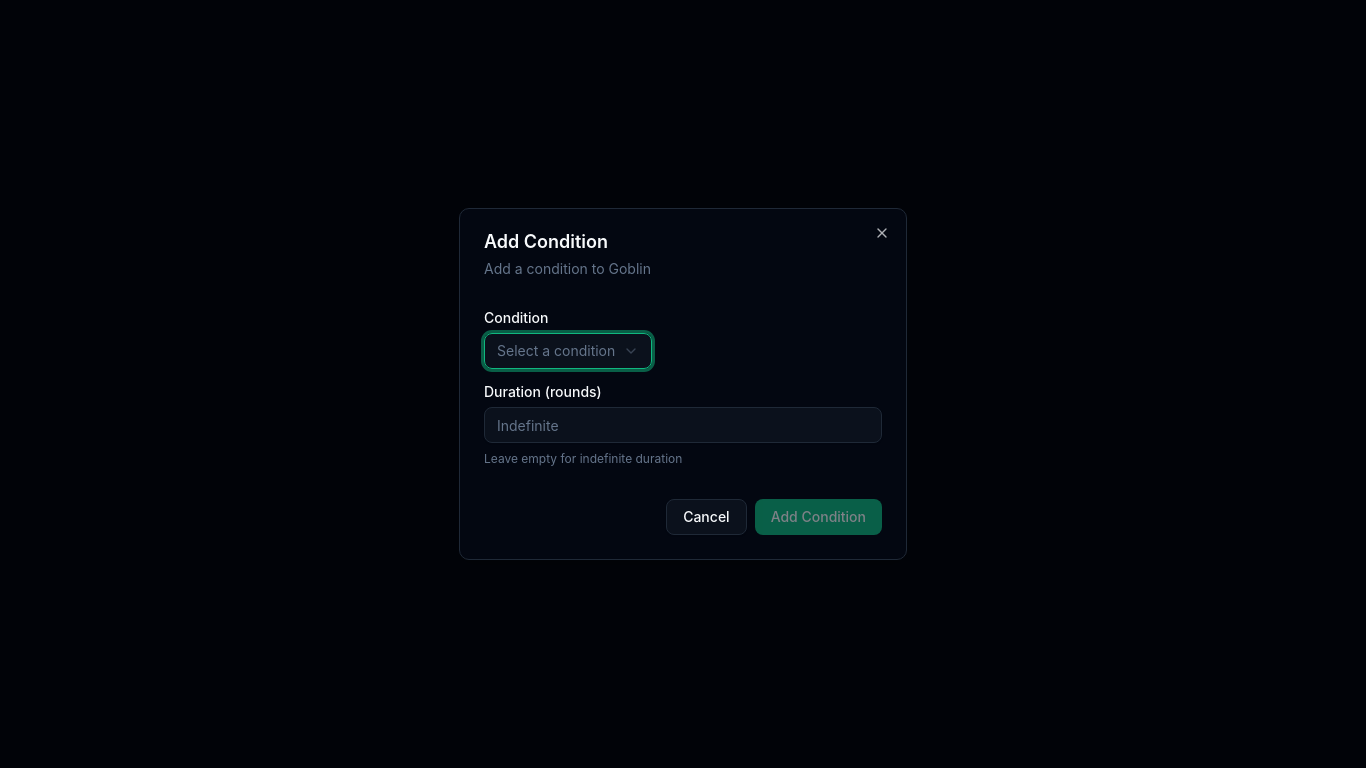
Test: AddConditionDialog › Condition Filtering › should show message when all conditions are applied
The image size is (1366, 768).
# Open select
Click the dropdown. click: (568, 351)
box: [484, 333, 652, 369]
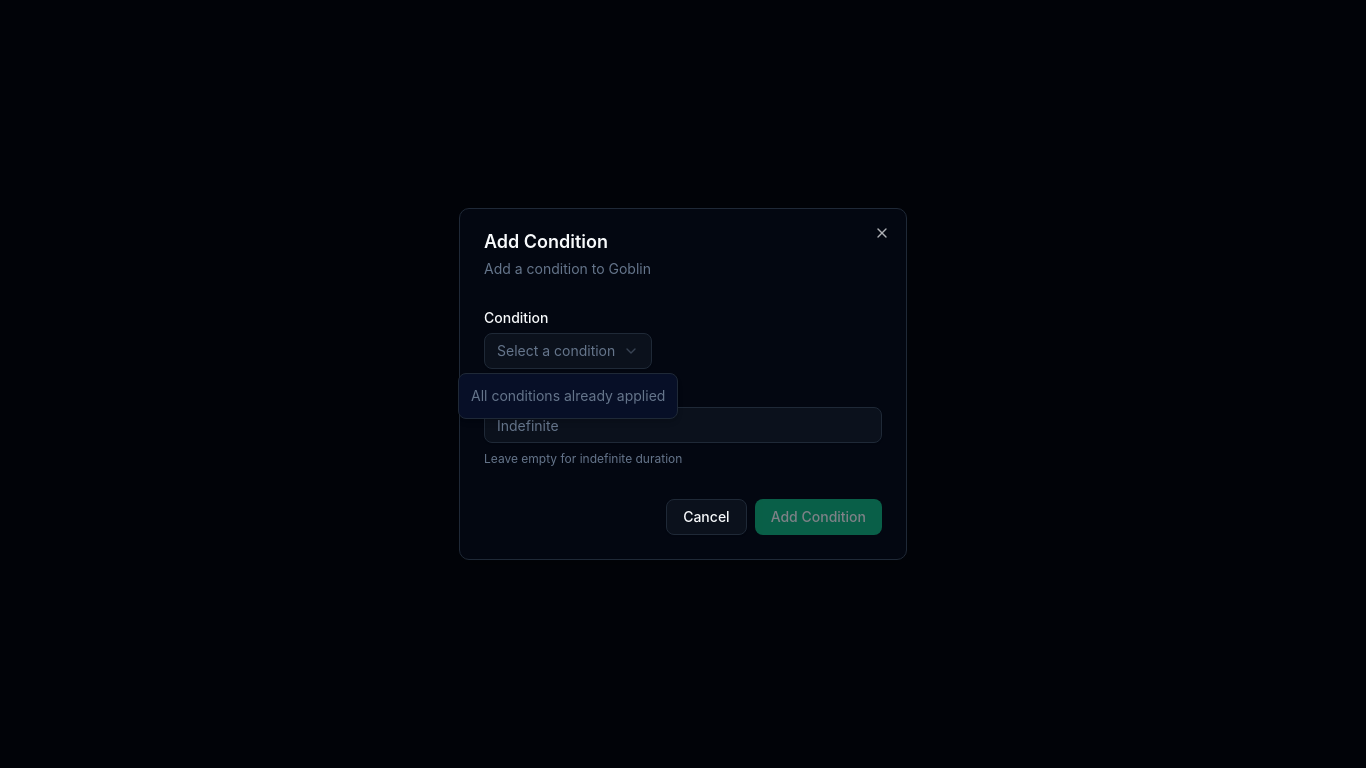
Expected: the text "All conditions already applied" is shown, [471, 387, 665, 404]
